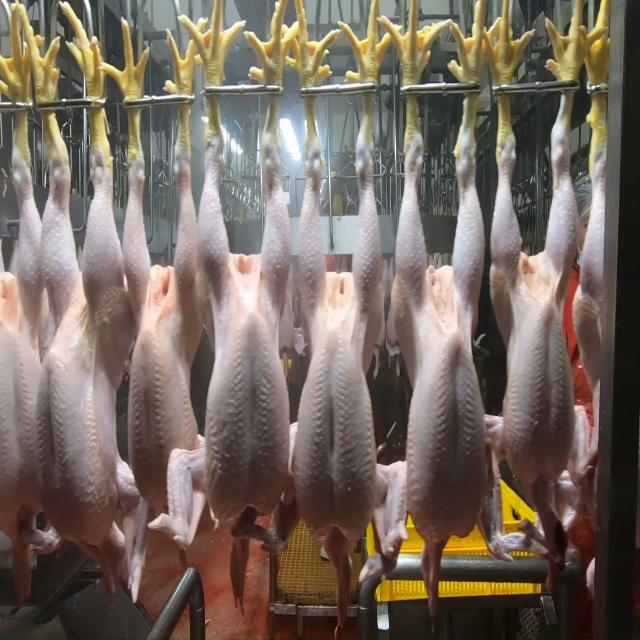chicken: (395, 126, 487, 549), (198, 110, 292, 520), (292, 140, 384, 547), (483, 131, 581, 501), (38, 150, 123, 542), (123, 165, 202, 518)
